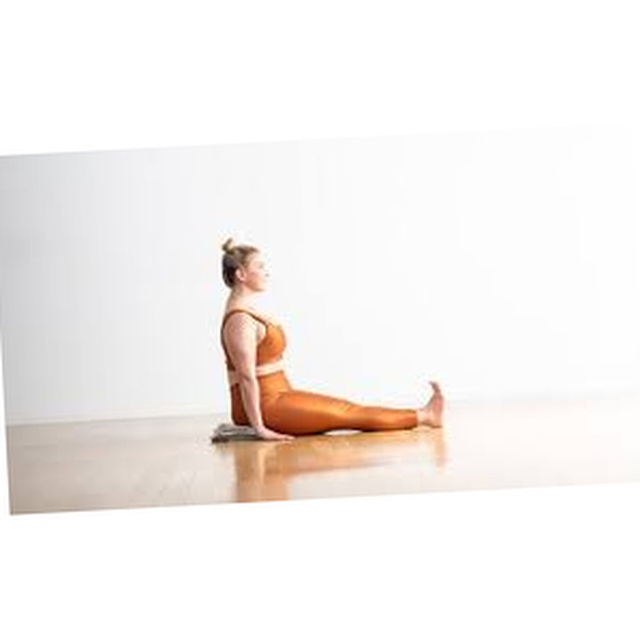Staff_Pose: (218, 237, 447, 444)
